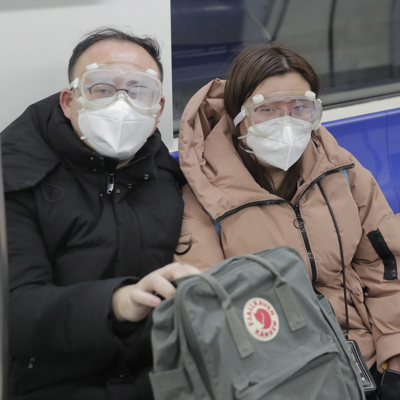with_mask: (75, 75, 158, 161), (245, 95, 315, 171)
